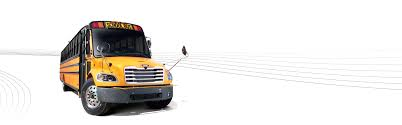bus: (59, 21, 188, 115)
